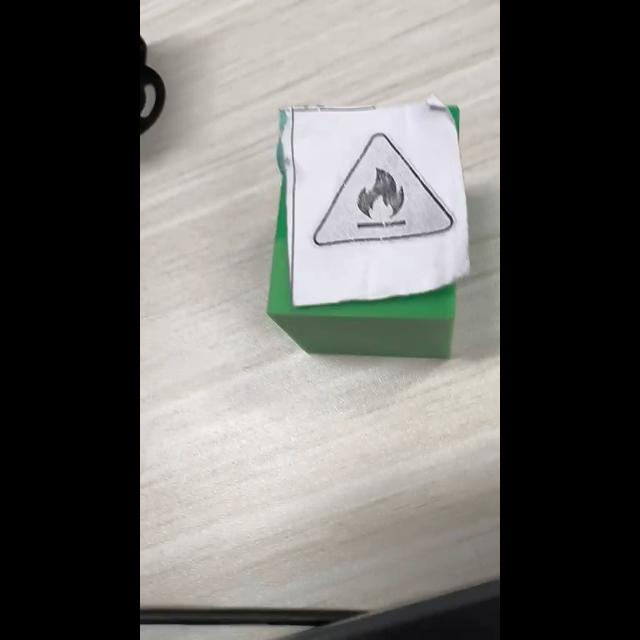Fire: (314, 132, 454, 246)
